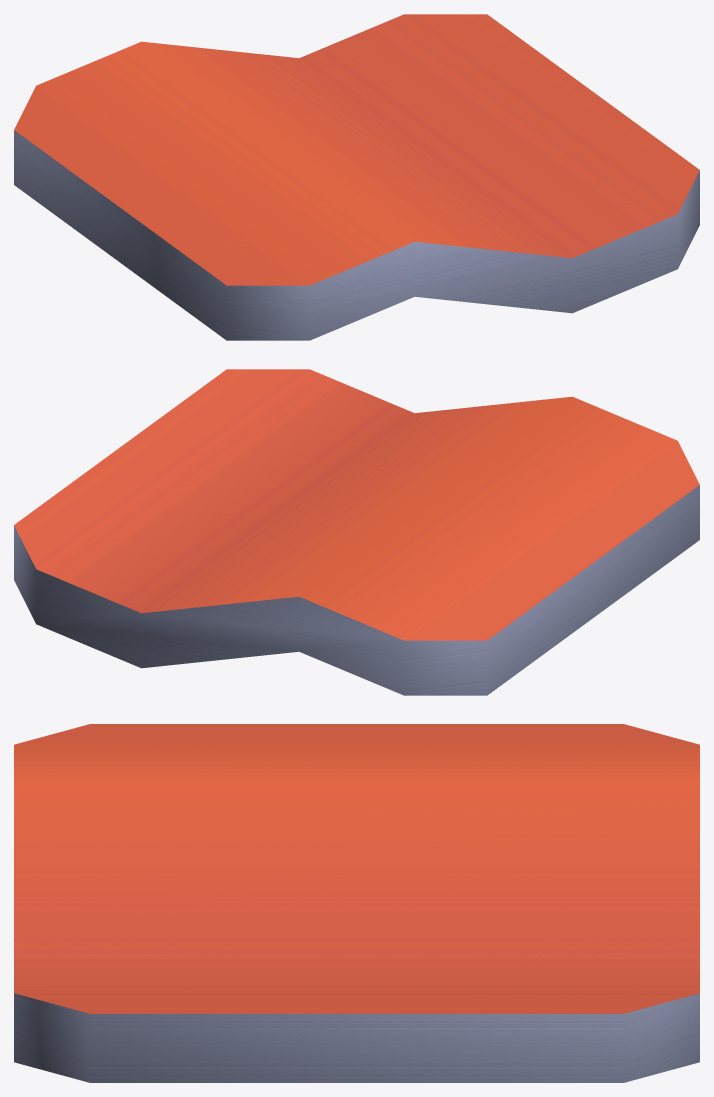
The model's file is debris-plate-b.glb.
The picture shows the model from 3 angles, top to bottom: view 1: azimuth 30°, elevation 25°; view 2: azimuth 150°, elevation 25°; view 3: azimuth 270°, elevation 25°; orthographic projection. The views are drawn at different scales.
Parts seen in each view (by area): view 1: debris-plate-b; view 2: debris-plate-b; view 3: debris-plate-b.
Part boxes in pixels (<box>): debris-plate-b: <box>14,14,699,340</box>; debris-plate-b: <box>14,369,699,695</box>; debris-plate-b: <box>14,724,699,1082</box>.
Bounding box in the file's own units: 0.9 × 0.2 × 0.9.
1 material, 1 textured.
